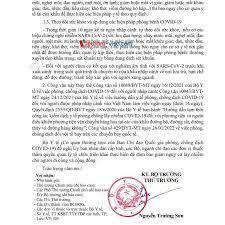Round chop: (107, 175, 149, 218)
